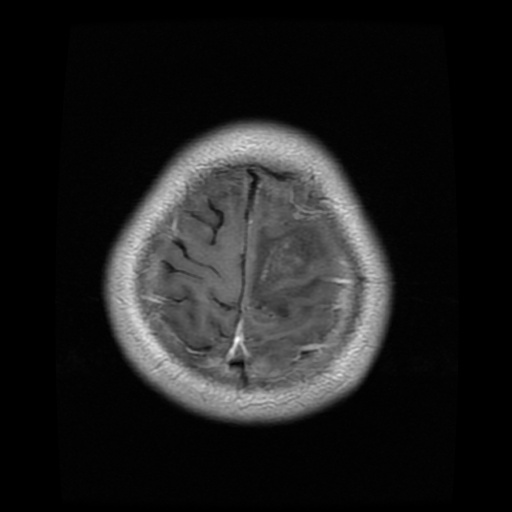glioma: (254, 227, 320, 315)
